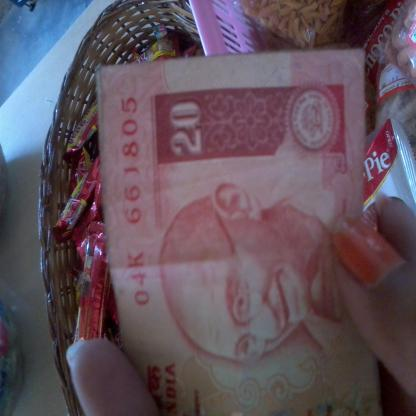Old20Front: (94, 69, 365, 416)
